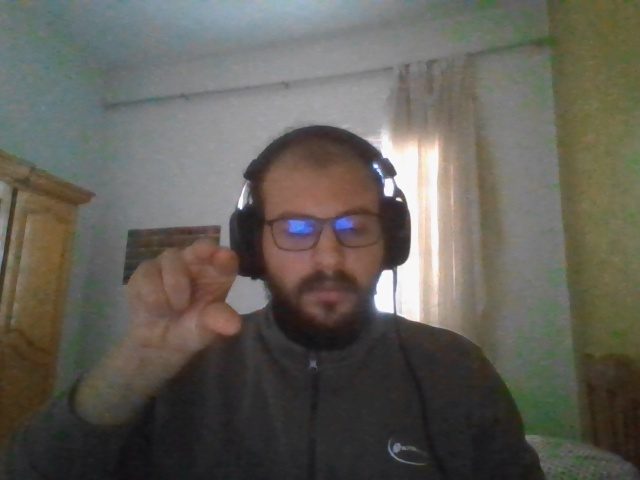No: (129, 239, 240, 352)
